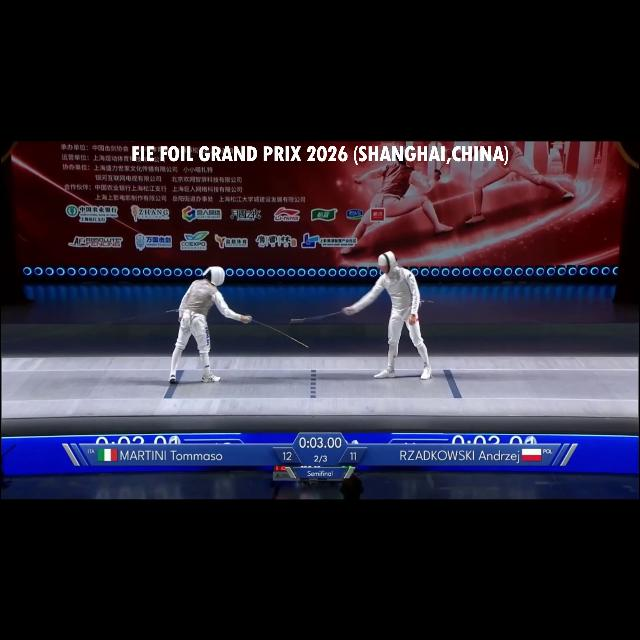blade: (242, 314, 312, 348), (287, 304, 355, 324)
